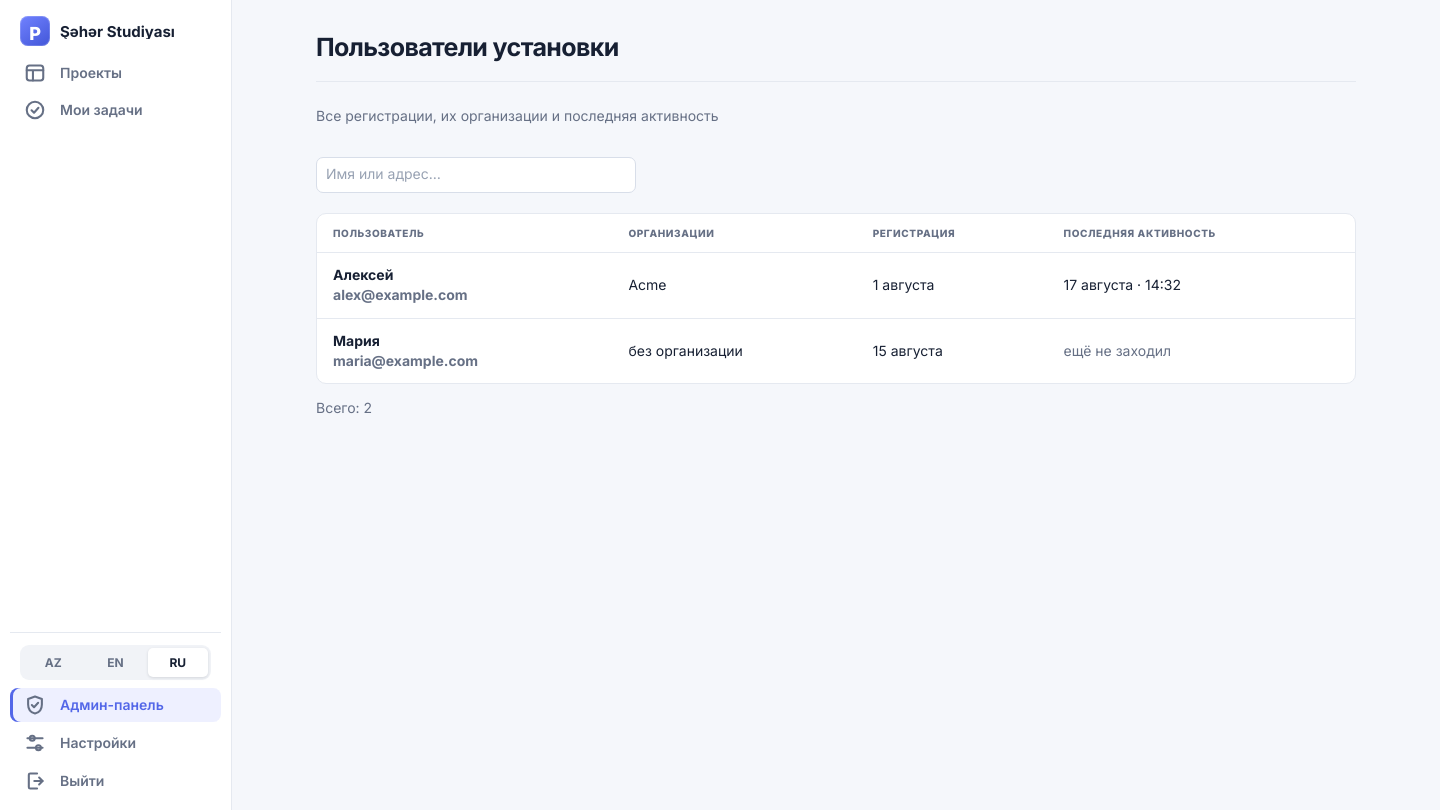
Test: панель директора › поиск фильтрует по имени и почте
Expected: the text "Алексей" is shown, top-left (333, 266), bottom-right (393, 283)
Type "мари" into the search field with placeholder "Имя или адрес…". click: coordinates (476, 174)
box: top-left (316, 156), bottom-right (636, 192)
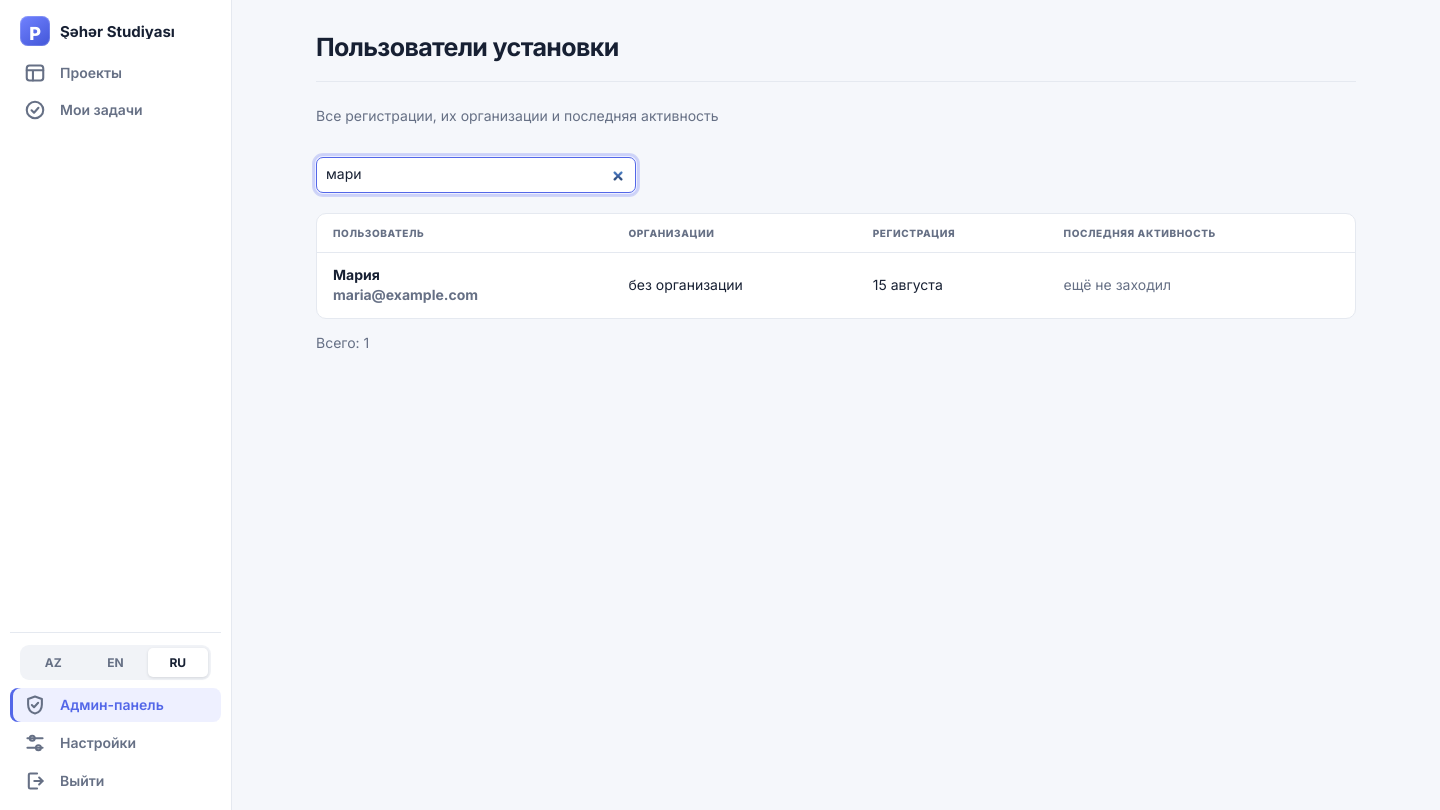
Expected: the text "Мария" is shown, top-left (333, 266), bottom-right (380, 283)
Expected: the text "Алексей" is gone
